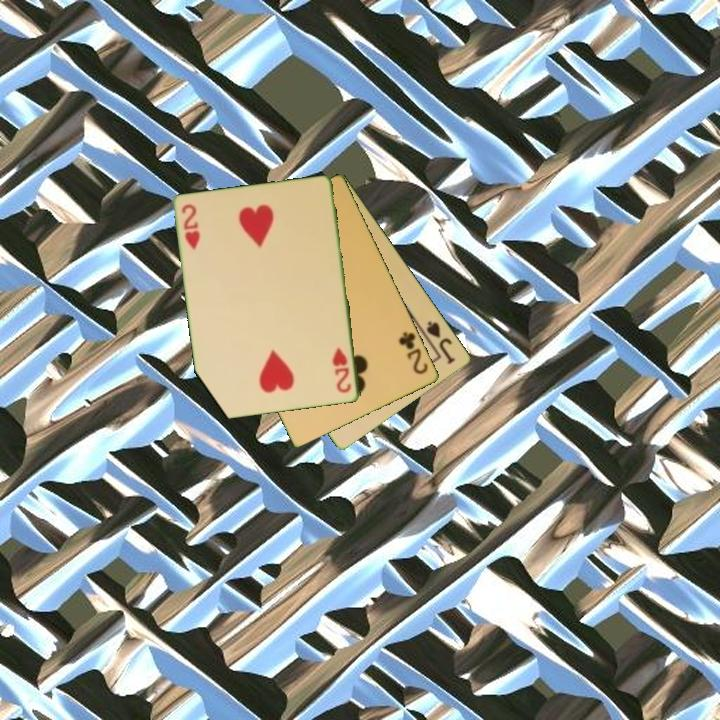2c: (395, 328, 431, 377)
2h: (329, 344, 354, 396), (178, 201, 203, 253)
Js: (423, 317, 459, 367)
